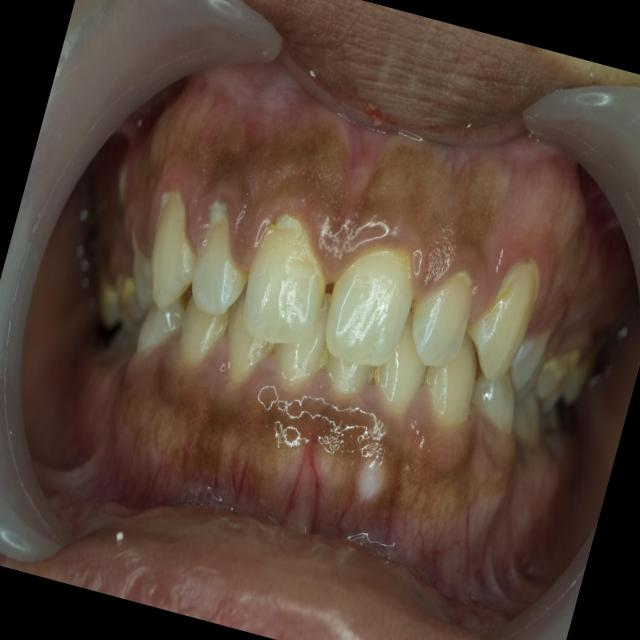Tooth: (243, 213, 326, 343), (325, 248, 412, 366), (466, 258, 539, 379), (191, 202, 248, 314), (373, 309, 428, 412), (412, 271, 471, 366), (150, 190, 196, 308), (273, 292, 331, 384), (226, 282, 274, 383), (424, 331, 475, 425), (178, 294, 232, 364), (327, 352, 376, 393)
